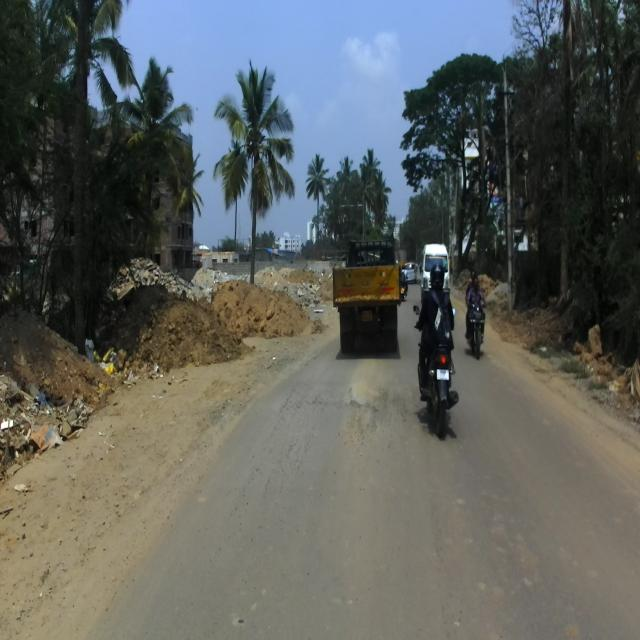motorcycle ahead at: (415, 338, 458, 435)
truck ahead at: (329, 228, 405, 364)
